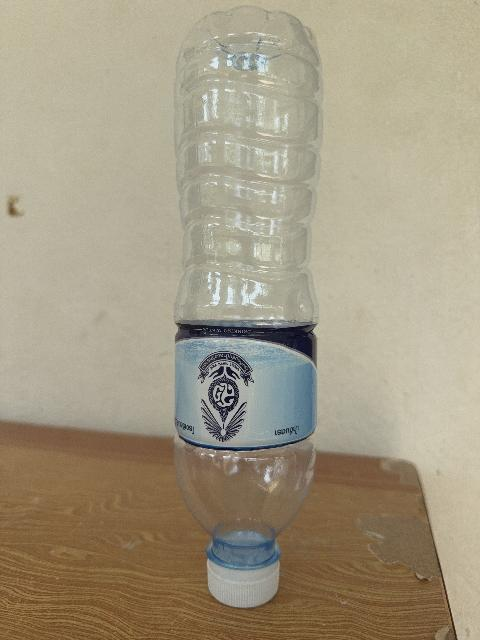bottle: (175, 7, 321, 606)
